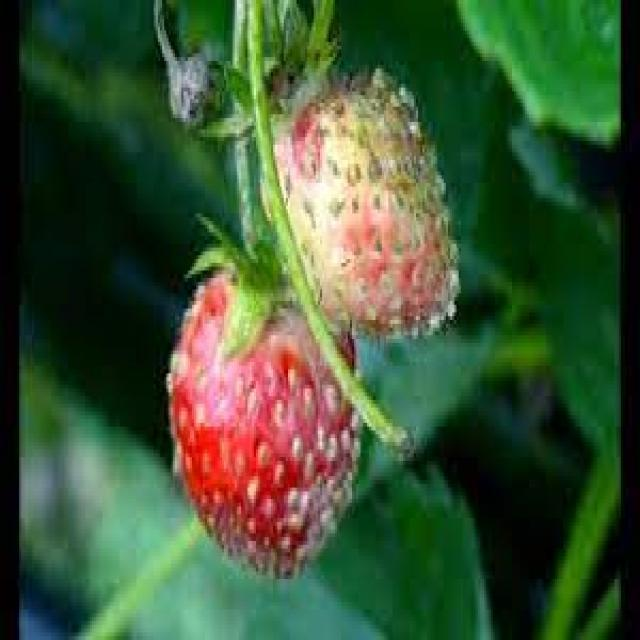Oído: (158, 261, 368, 587), (258, 68, 460, 350)
